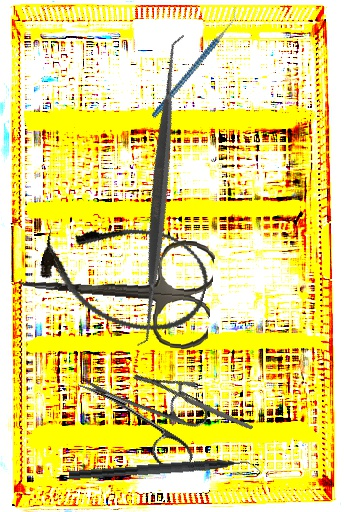Cannula: (30, 202, 218, 346)
Chopper: (125, 6, 264, 119), (68, 453, 263, 494)
Iris Scissors: (14, 226, 216, 353), (62, 349, 217, 476)
Needle Holder: (131, 343, 254, 462)
Spatula Surgical: (5, 33, 316, 348)
